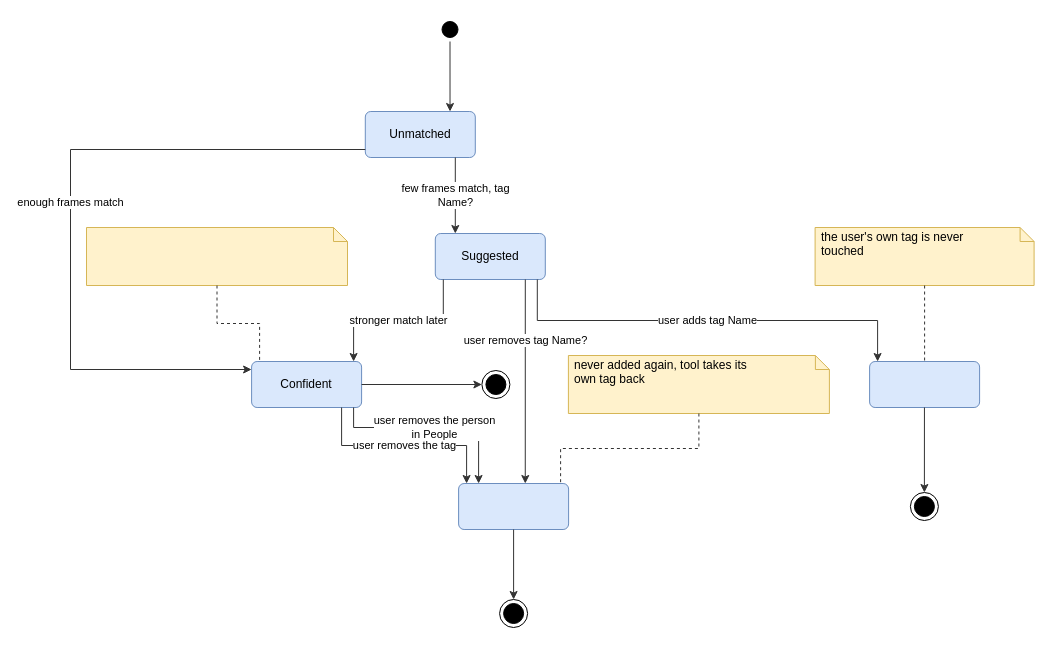
Image size: 1052x645. Some labels were removed from this diagram. Each missing label, with the centre of its shape:
"Confirmed" goes at [924,384].
"Rejected" goes at [513,506].
"tag Name, People-page link, album entry" goes at [217,256].
